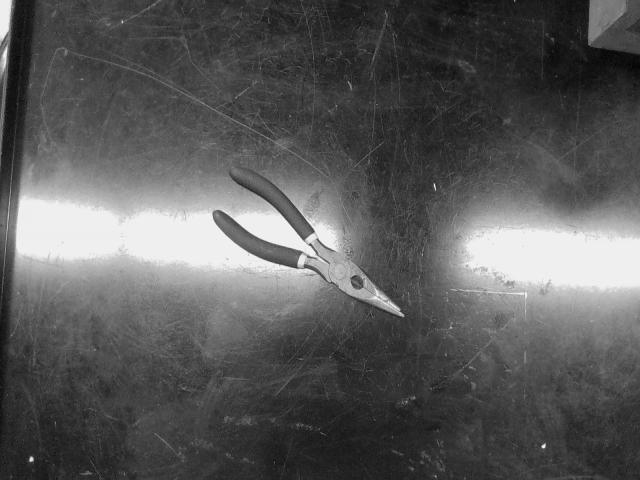Needle-nose pliers: (212, 167, 404, 318)
